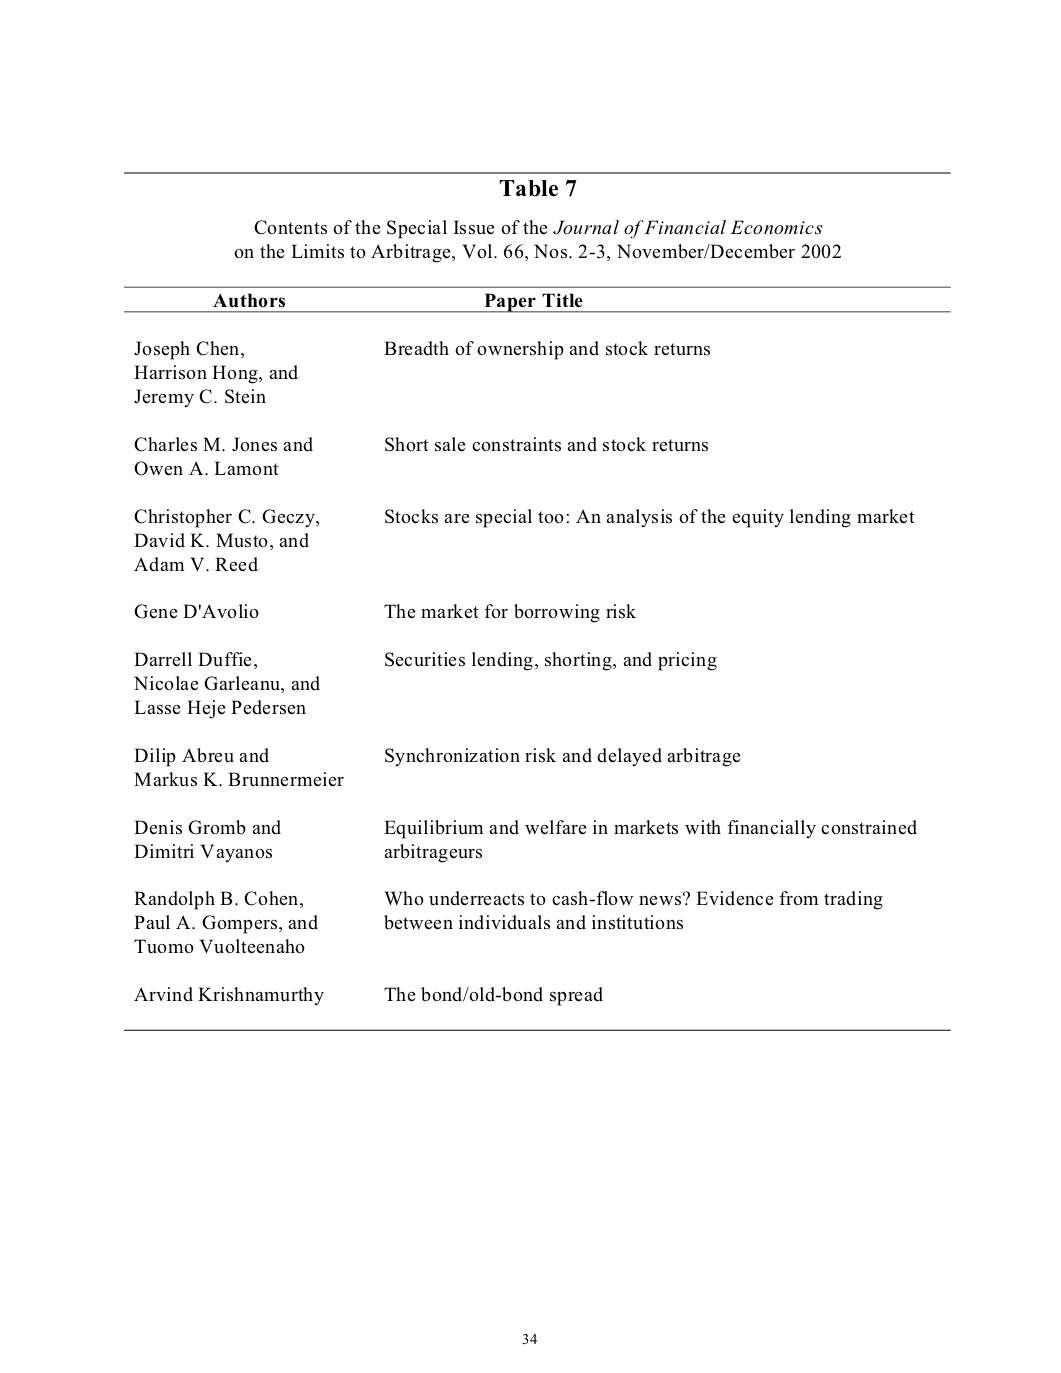Table: (124, 286, 950, 1030)
